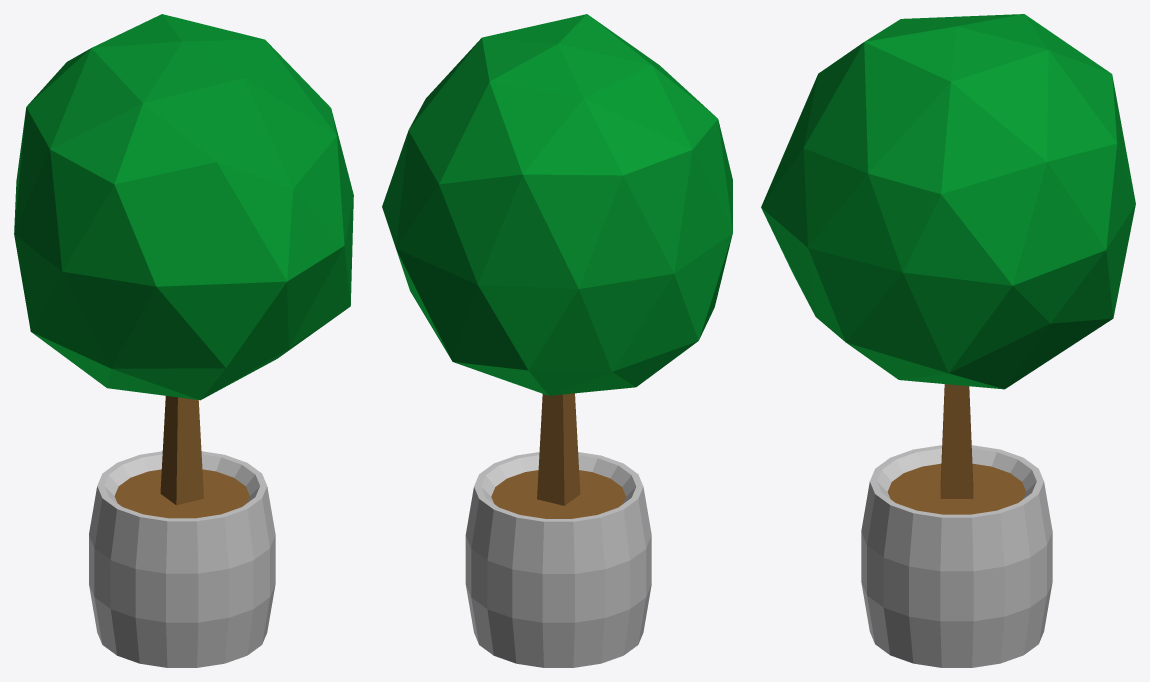
Rendered from Tree Pot_3.fbx.
3 renders of one model, left to right at view 1: azimuth 30°, elevation 25°; view 2: azimuth 150°, elevation 25°; view 3: azimuth 270°, elevation 25°, orthographic. The views are drawn at different scales.
Parts seen in each view (by area): view 1: Tree Pot_3; view 2: Tree Pot_3; view 3: Tree Pot_3.
Boxes of the visible parts, x1=… form: Tree Pot_3: x1=14, y1=14, x2=353, y2=667; Tree Pot_3: x1=382, y1=14, x2=732, y2=667; Tree Pot_3: x1=761, y1=14, x2=1135, y2=667.
Size of the model in its own units: 0.2742 by 0.5205 by 0.2921.
